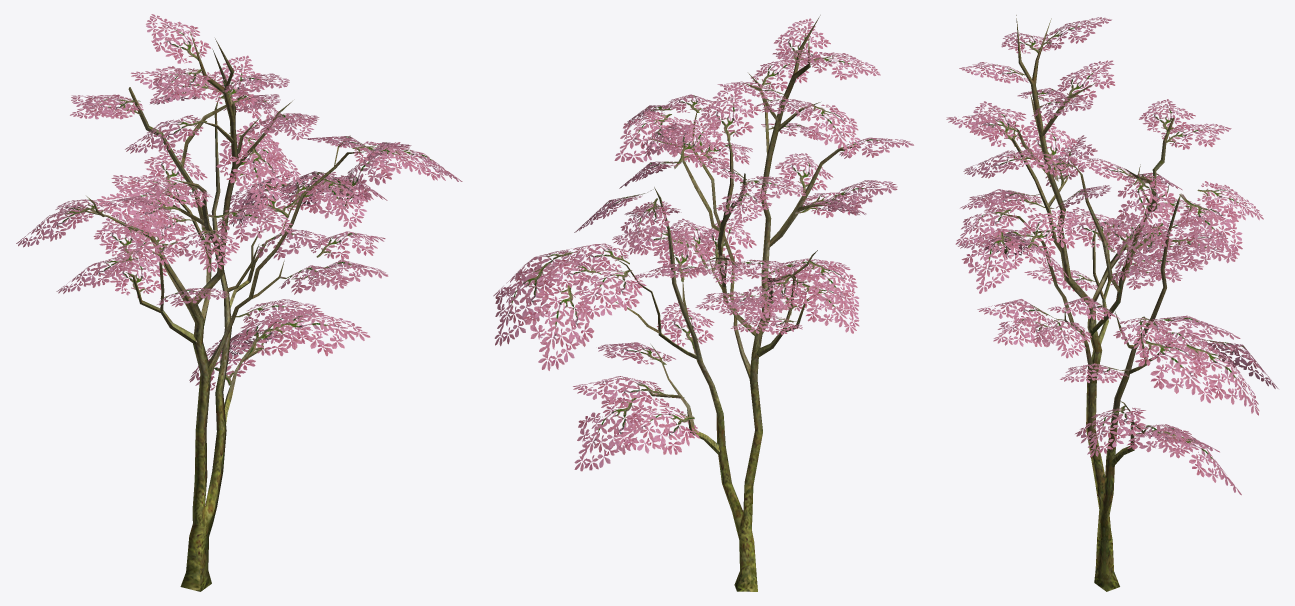
File: SC_ZGFzhiwu04.FBX
3 views of the same model, side by side, from view 1: azimuth 30°, elevation 25°; view 2: azimuth 150°, elevation 25°; view 3: azimuth 270°, elevation 25° (orthographic). The views are drawn at different scales.
Parts seen in each view (by area): view 1: SC_ZGFzhiwu04; view 2: SC_ZGFzhiwu04; view 3: SC_ZGFzhiwu04.
Part boxes in pixels (x1,y1,x2,y2): SC_ZGFzhiwu04: (16,14,462,591); SC_ZGFzhiwu04: (493,15,913,591); SC_ZGFzhiwu04: (946,15,1278,591).
Bounding box in the file's own units: 584 × 893 × 488.
